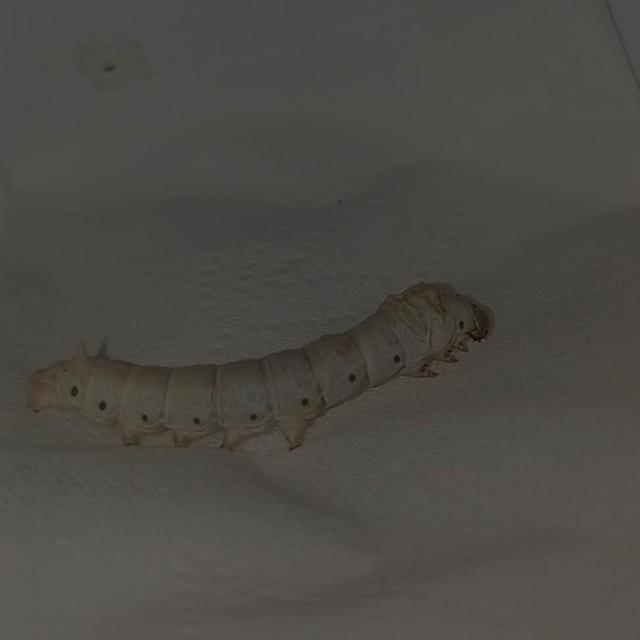Healthy: (17, 256, 507, 481)
